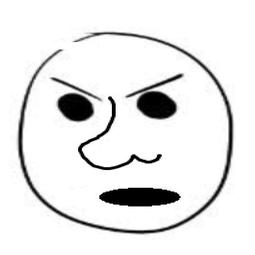eye: (135, 90, 179, 120), (57, 93, 93, 125)
frowning_eyebrow: (126, 68, 185, 99), (50, 75, 104, 102)
large_nose: (75, 96, 165, 172)
open_mouth: (97, 181, 185, 212)
